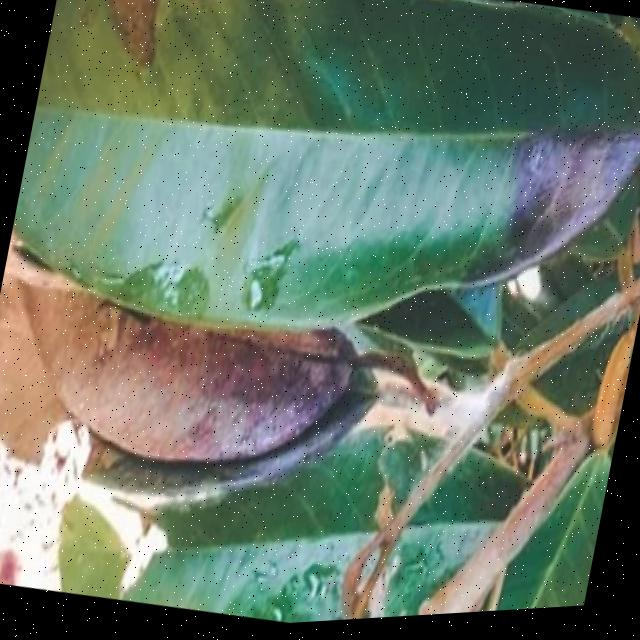Leaf_Blight: (0, 233, 405, 571), (374, 0, 640, 378)
